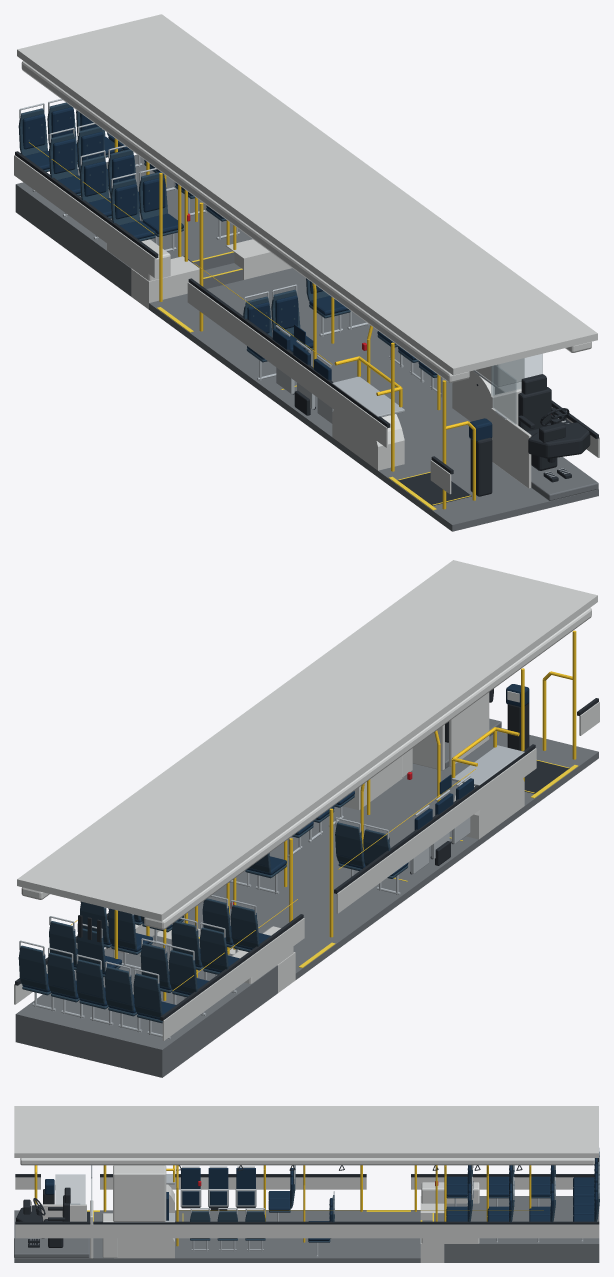
The model's file is city-bus-12m-interior-v2.lod0.glb.
3 views of the same model, one above another, from view 1: azimuth 30°, elevation 25°; view 2: azimuth 150°, elevation 25°; view 3: azimuth 270°, elevation 25° (orthographic). The views are drawn at different scales.
Parts seen in each view (by area): view 1: interior-batch-panel, interior-batch-floor, interior-batch-seat, interior-batch-rubber, interior-batch-seat-shell, interior-batch-rail, interior-batch-metal, interior-batch-glass; view 2: interior-batch-panel, interior-batch-floor, interior-batch-seat-shell, interior-batch-metal, interior-batch-rail, interior-batch-rubber, interior-batch-seat; view 3: interior-batch-panel, interior-batch-floor, interior-batch-seat, interior-batch-rubber, interior-batch-rail, interior-batch-seat-shell, interior-batch-metal, interior-batch-glass.
Part boxes in pixels (bbox=[...]): interior-batch-panel: bbox=[14, 14, 599, 494]; interior-batch-floor: bbox=[15, 154, 598, 531]; interior-batch-seat: bbox=[22, 107, 492, 441]; interior-batch-rubber: bbox=[15, 151, 598, 505]; interior-batch-seat-shell: bbox=[18, 102, 437, 377]; interior-batch-rail: bbox=[29, 138, 475, 509]; interior-batch-metal: bbox=[19, 99, 569, 477]; interior-batch-glass: bbox=[491, 354, 542, 424]; interior-batch-panel: bbox=[14, 560, 599, 1040]; interior-batch-floor: bbox=[15, 718, 598, 1077]; interior-batch-seat-shell: bbox=[18, 795, 407, 1023]; interior-batch-metal: bbox=[19, 745, 524, 1039]; interior-batch-rail: bbox=[70, 630, 576, 1000]; interior-batch-rubber: bbox=[15, 689, 598, 1020]; interior-batch-seat: bbox=[22, 684, 529, 1019]; interior-batch-panel: bbox=[14, 1106, 599, 1262]; interior-batch-floor: bbox=[14, 1196, 599, 1262]; interior-batch-seat: bbox=[45, 1158, 597, 1240]; interior-batch-rubber: bbox=[15, 1158, 599, 1247]; interior-batch-rail: bbox=[34, 1165, 543, 1246]; interior-batch-seat-shell: bbox=[190, 1152, 599, 1242]; interior-batch-metal: bbox=[30, 1147, 599, 1257]; interior-batch-glass: bbox=[55, 1174, 91, 1215].
Size of the model in its own units: 2.36 by 2.44 by 11.88.
